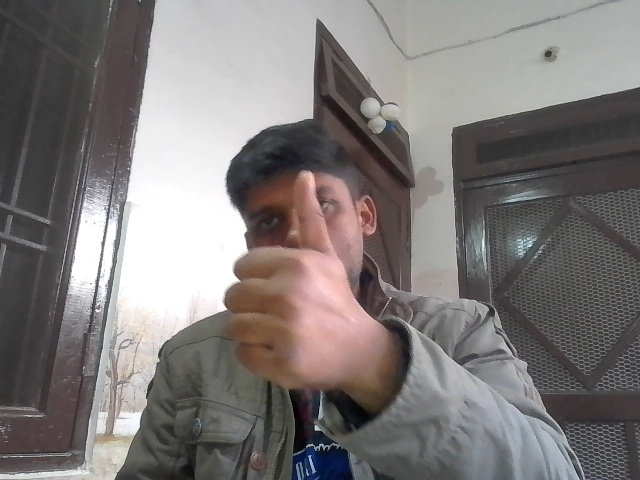BestOfLuck: (221, 164, 359, 395)
